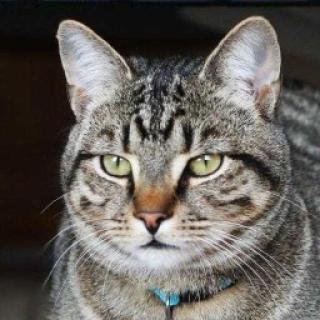cat: (48, 14, 296, 274)
nose: (131, 190, 177, 238)
